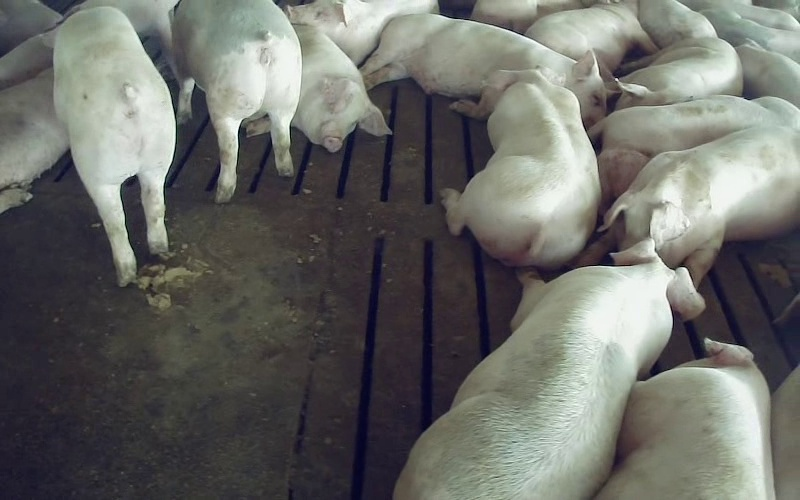pig: (396, 239, 703, 499), (53, 7, 175, 285), (442, 67, 600, 268), (595, 339, 774, 499), (361, 14, 606, 127), (172, 0, 301, 201), (589, 95, 799, 211), (291, 25, 390, 152), (526, 0, 656, 92), (285, 0, 438, 64), (0, 68, 68, 212), (615, 38, 742, 109), (736, 43, 799, 107)
